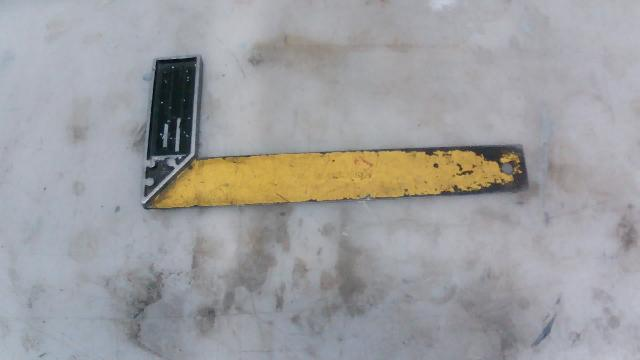penggaris_siku: (120, 31, 555, 283)
